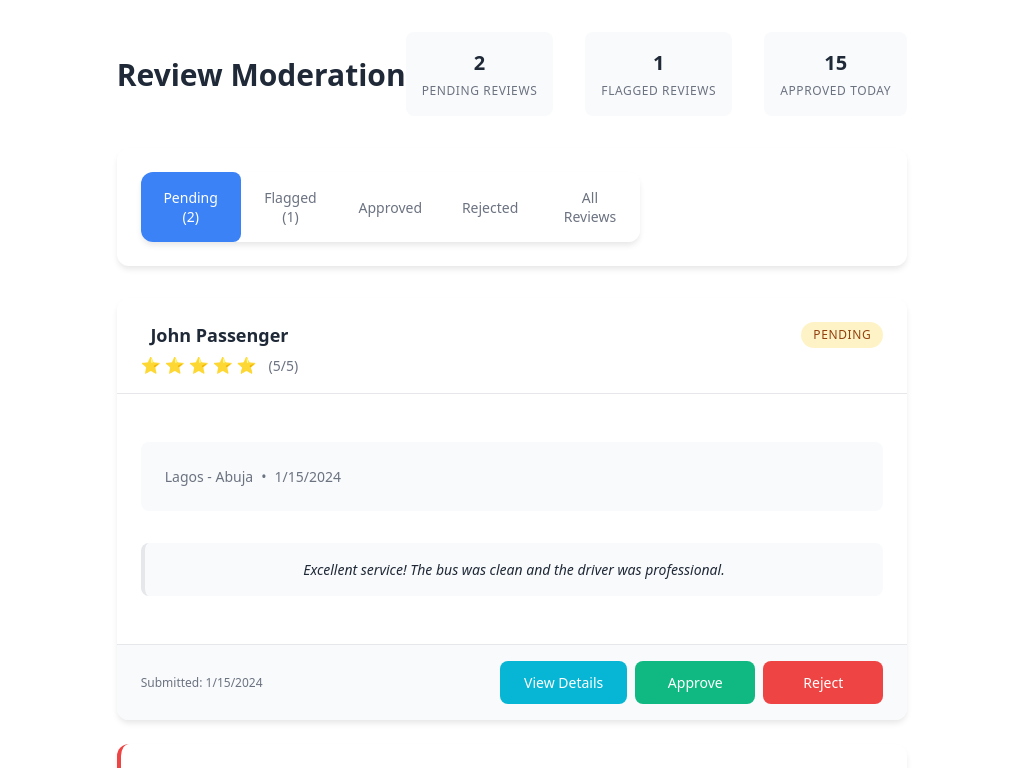
Test: ReviewModeration › displays moderation actions for pending reviews
# Open modal for pending review
Click the button "View Details". click: (564,682)
box: [500,661,627,704]
(page scrolled)
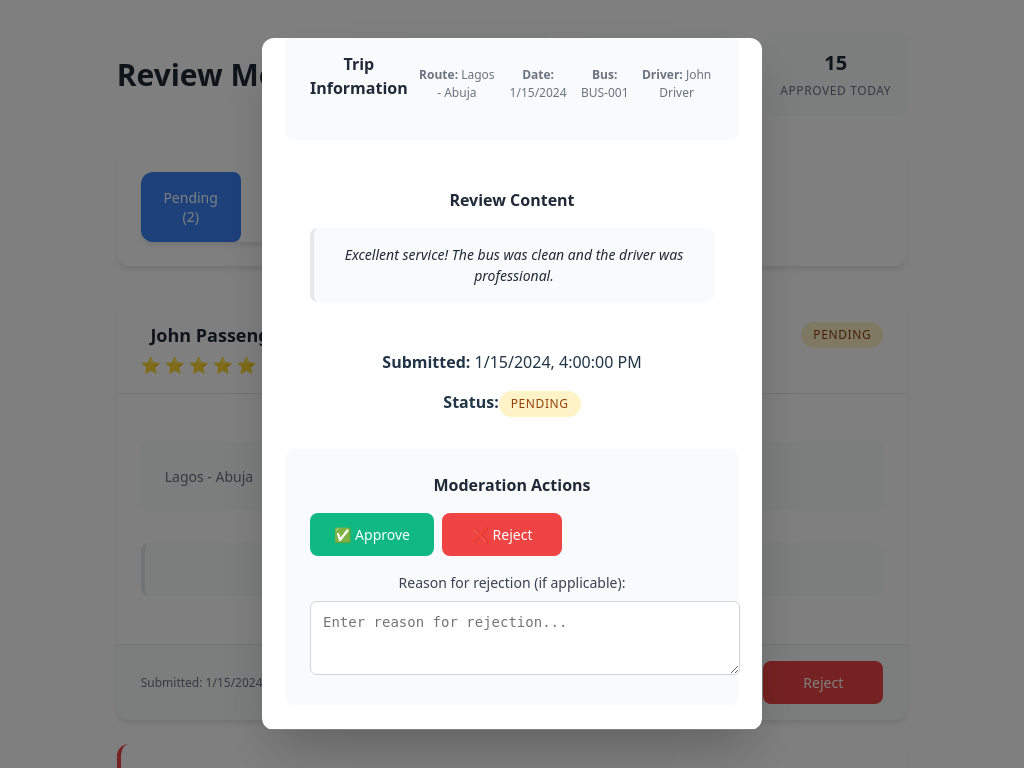
Now the heading "Moderation Actions" is shown, box [434,474,590,496]
Now the button "✅ Approve" is shown, box [310,513,434,556]
Now the button "❌ Reject" is shown, box [442,513,562,556]
